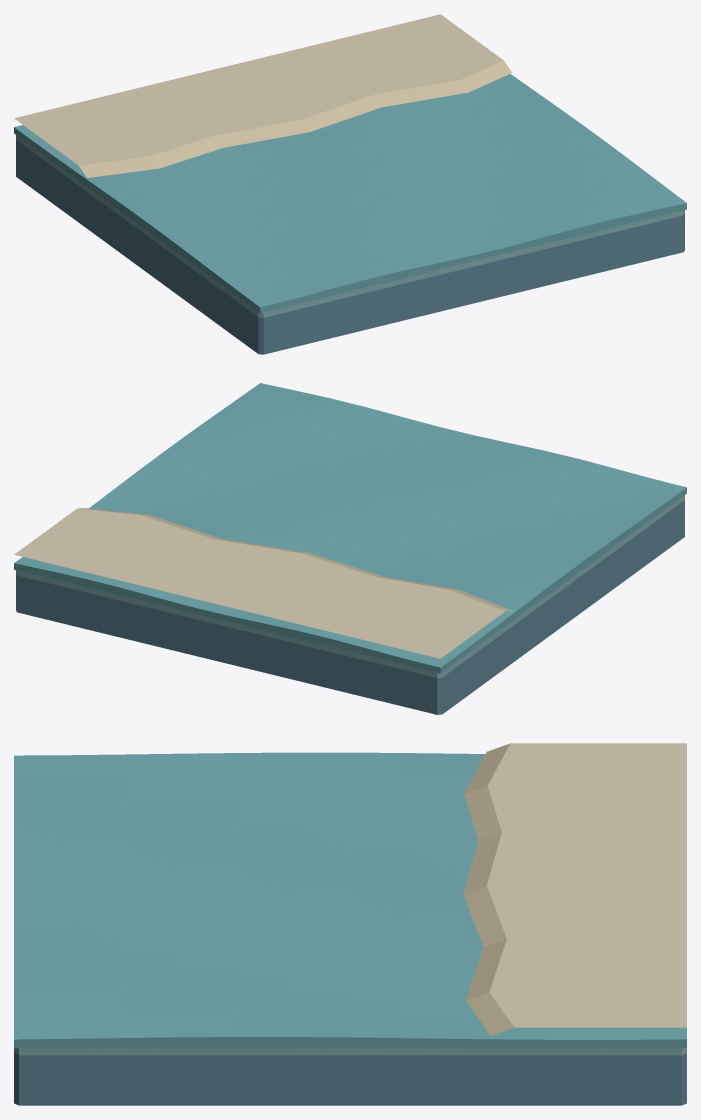
The picture shows the model from 3 angles, top to bottom: view 1: azimuth 30°, elevation 25°; view 2: azimuth 150°, elevation 25°; view 3: azimuth 270°, elevation 25°; orthographic projection. The views are drawn at different scales.
Visible parts, largest first — view 1: B11; view 2: B11; view 3: B11.
Boxes of the visible parts, bbox=[...] form: B11: bbox=[14, 14, 686, 354]; B11: bbox=[14, 383, 686, 714]; B11: bbox=[14, 743, 686, 1105].
Size of the model in its own units: 8 by 1.02 by 8.
